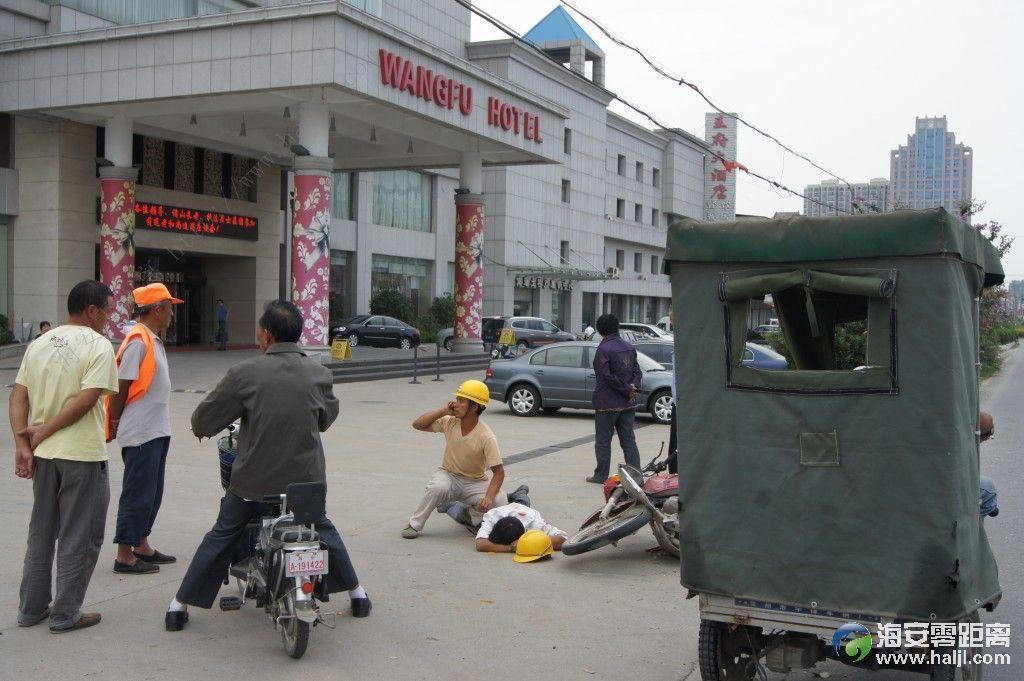Fall-Detected: (464, 469, 567, 561)
